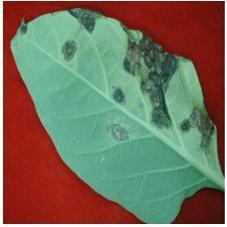Bacterial Spot: (10, 6, 219, 221)
